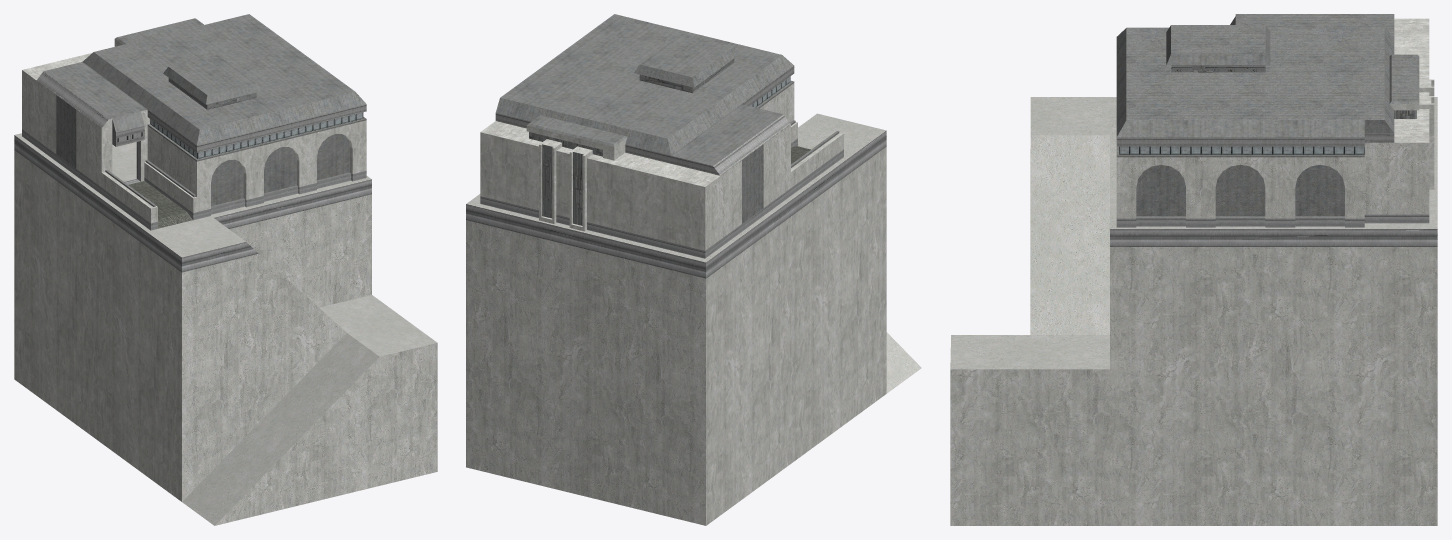
File: ply_corl_house_sm_s01_fp2_r0_exterior_mesh_l0.fbx
3 renders of one model, left to right at view 1: azimuth 30°, elevation 25°; view 2: azimuth 150°, elevation 25°; view 3: azimuth 270°, elevation 25°, orthographic. The views are drawn at different scales.
Visible parts, largest first — view 1: mesh_node; view 2: mesh_node; view 3: mesh_node.
Part boxes in pixels (<box>): mesh_node: <box>14,14,437,525</box>; mesh_node: <box>466,14,921,525</box>; mesh_node: <box>950,14,1437,525</box>.
Size of the model in its own units: 15.74 by 23.24 by 24.55.
